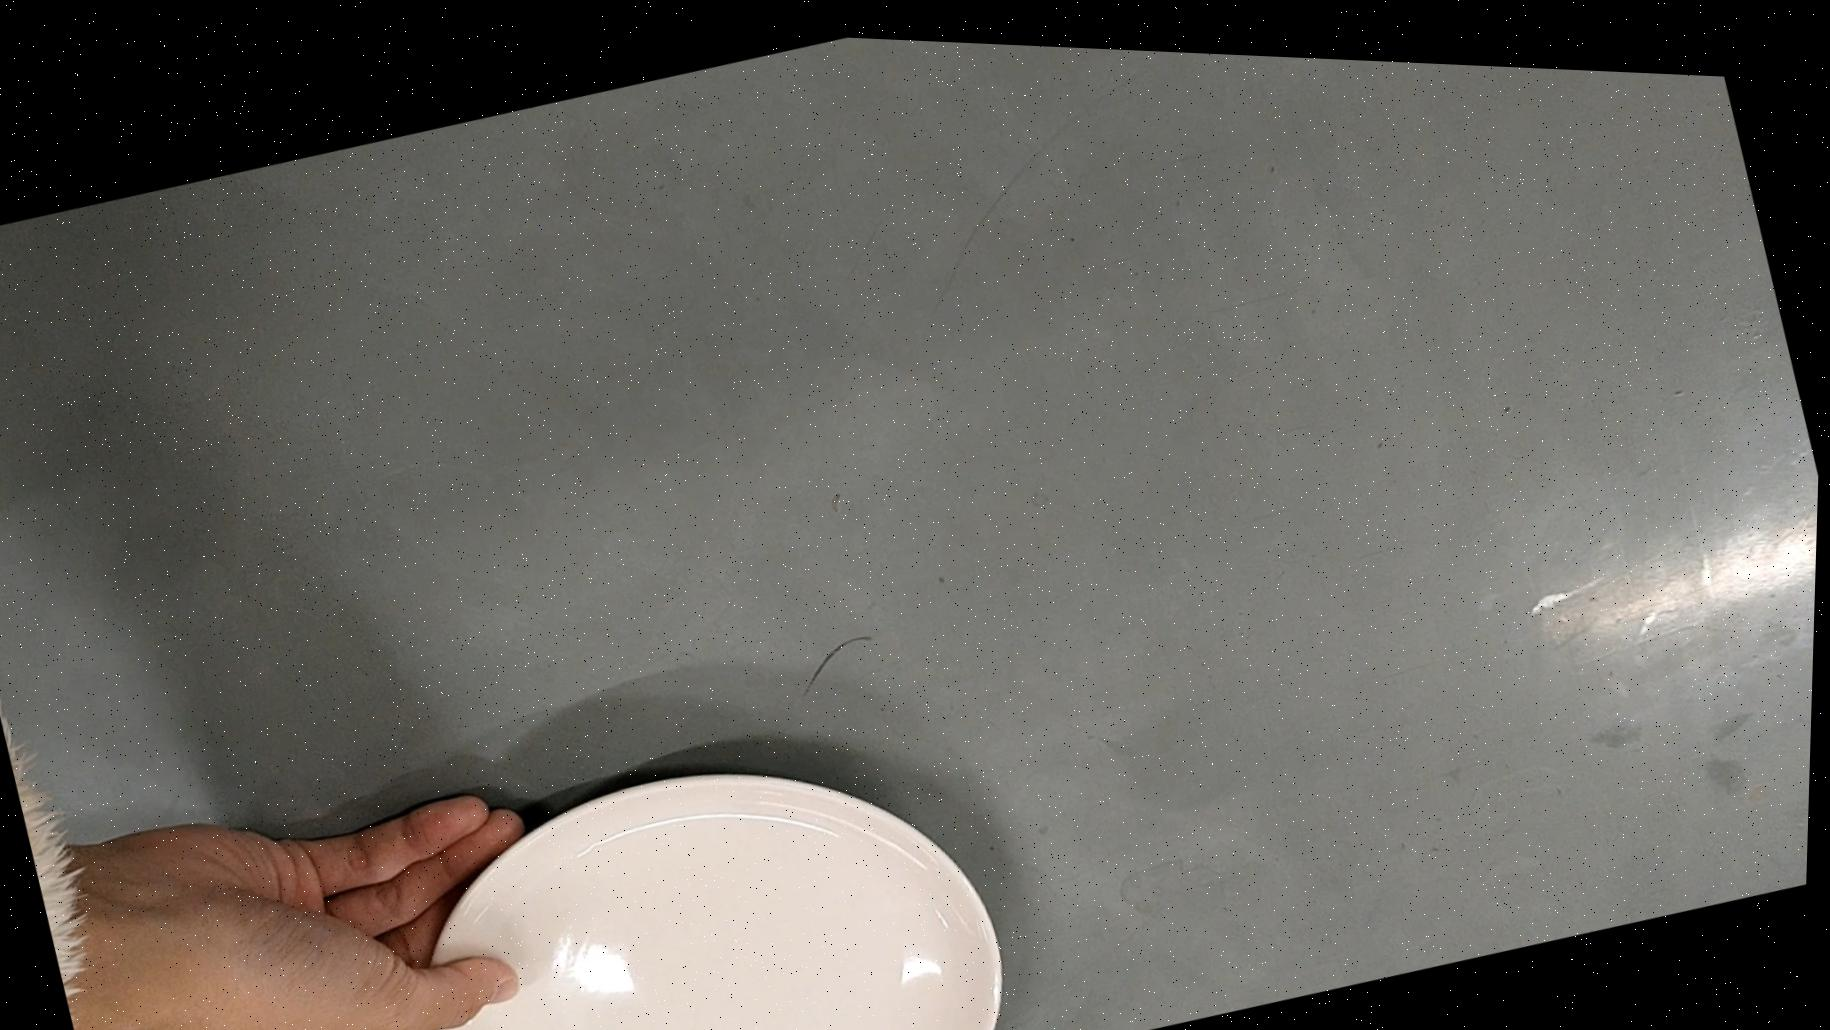plate: (380, 679, 1037, 1030)
